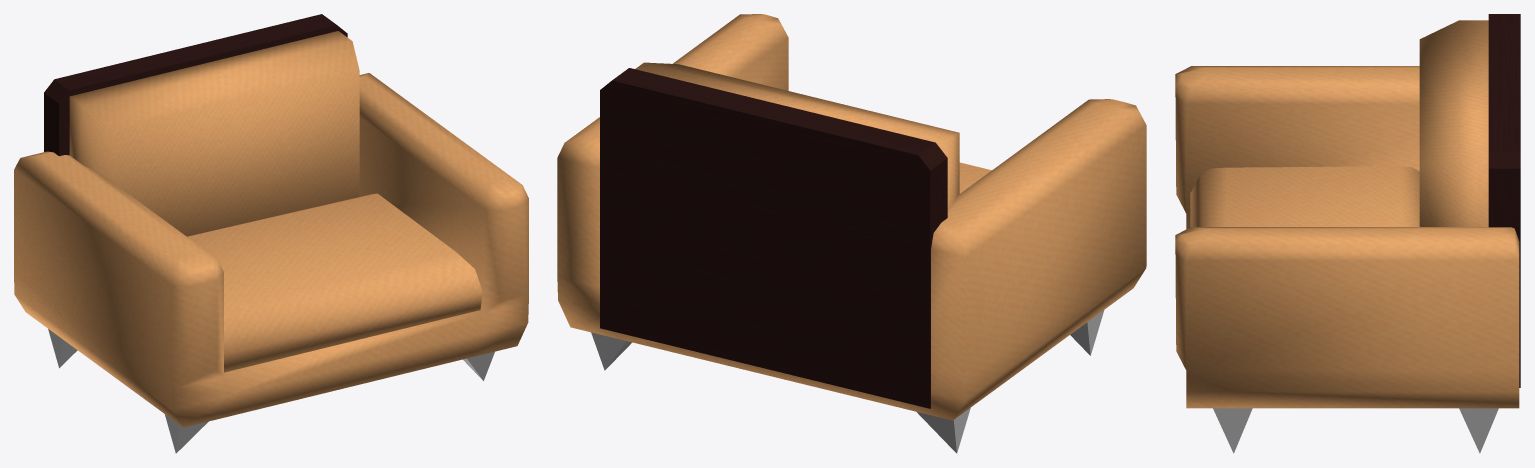
Rendered from Armchair_D_2.FBX.
3 views of the same model, side by side, from view 1: azimuth 30°, elevation 25°; view 2: azimuth 150°, elevation 25°; view 3: azimuth 270°, elevation 25° (orthographic). The views are drawn at different scales.
Visible parts, largest first — view 1: Flatback_Chair; view 2: Flatback_Chair; view 3: Flatback_Chair.
Boxes of the visible parts, box(x1,y1,x2,y2) form: Flatback_Chair: box(14, 14, 528, 453); Flatback_Chair: box(557, 14, 1146, 453); Flatback_Chair: box(1175, 14, 1520, 453).
Bounding box in the file's own units: 214 × 157 × 170.
